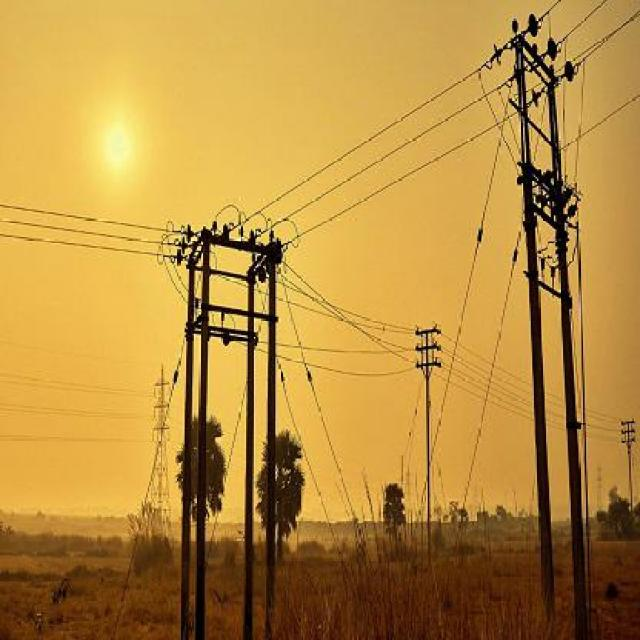pole: (483, 17, 600, 634), (165, 201, 288, 634), (409, 314, 451, 524)
